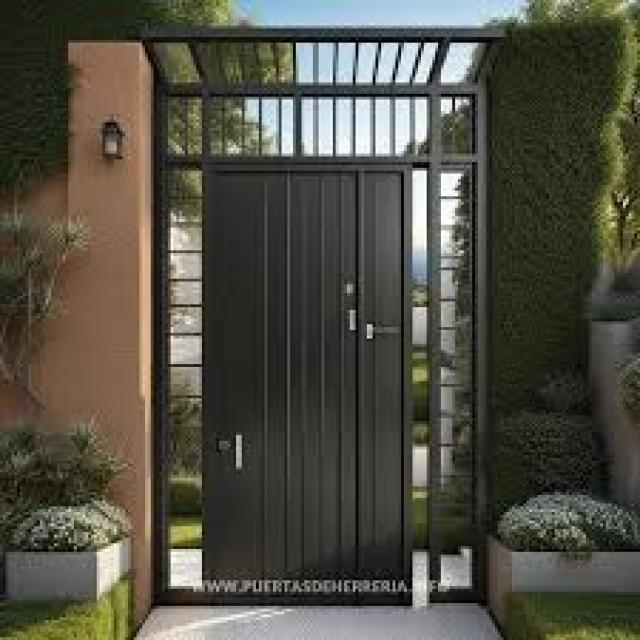door: (200, 162, 414, 603)
